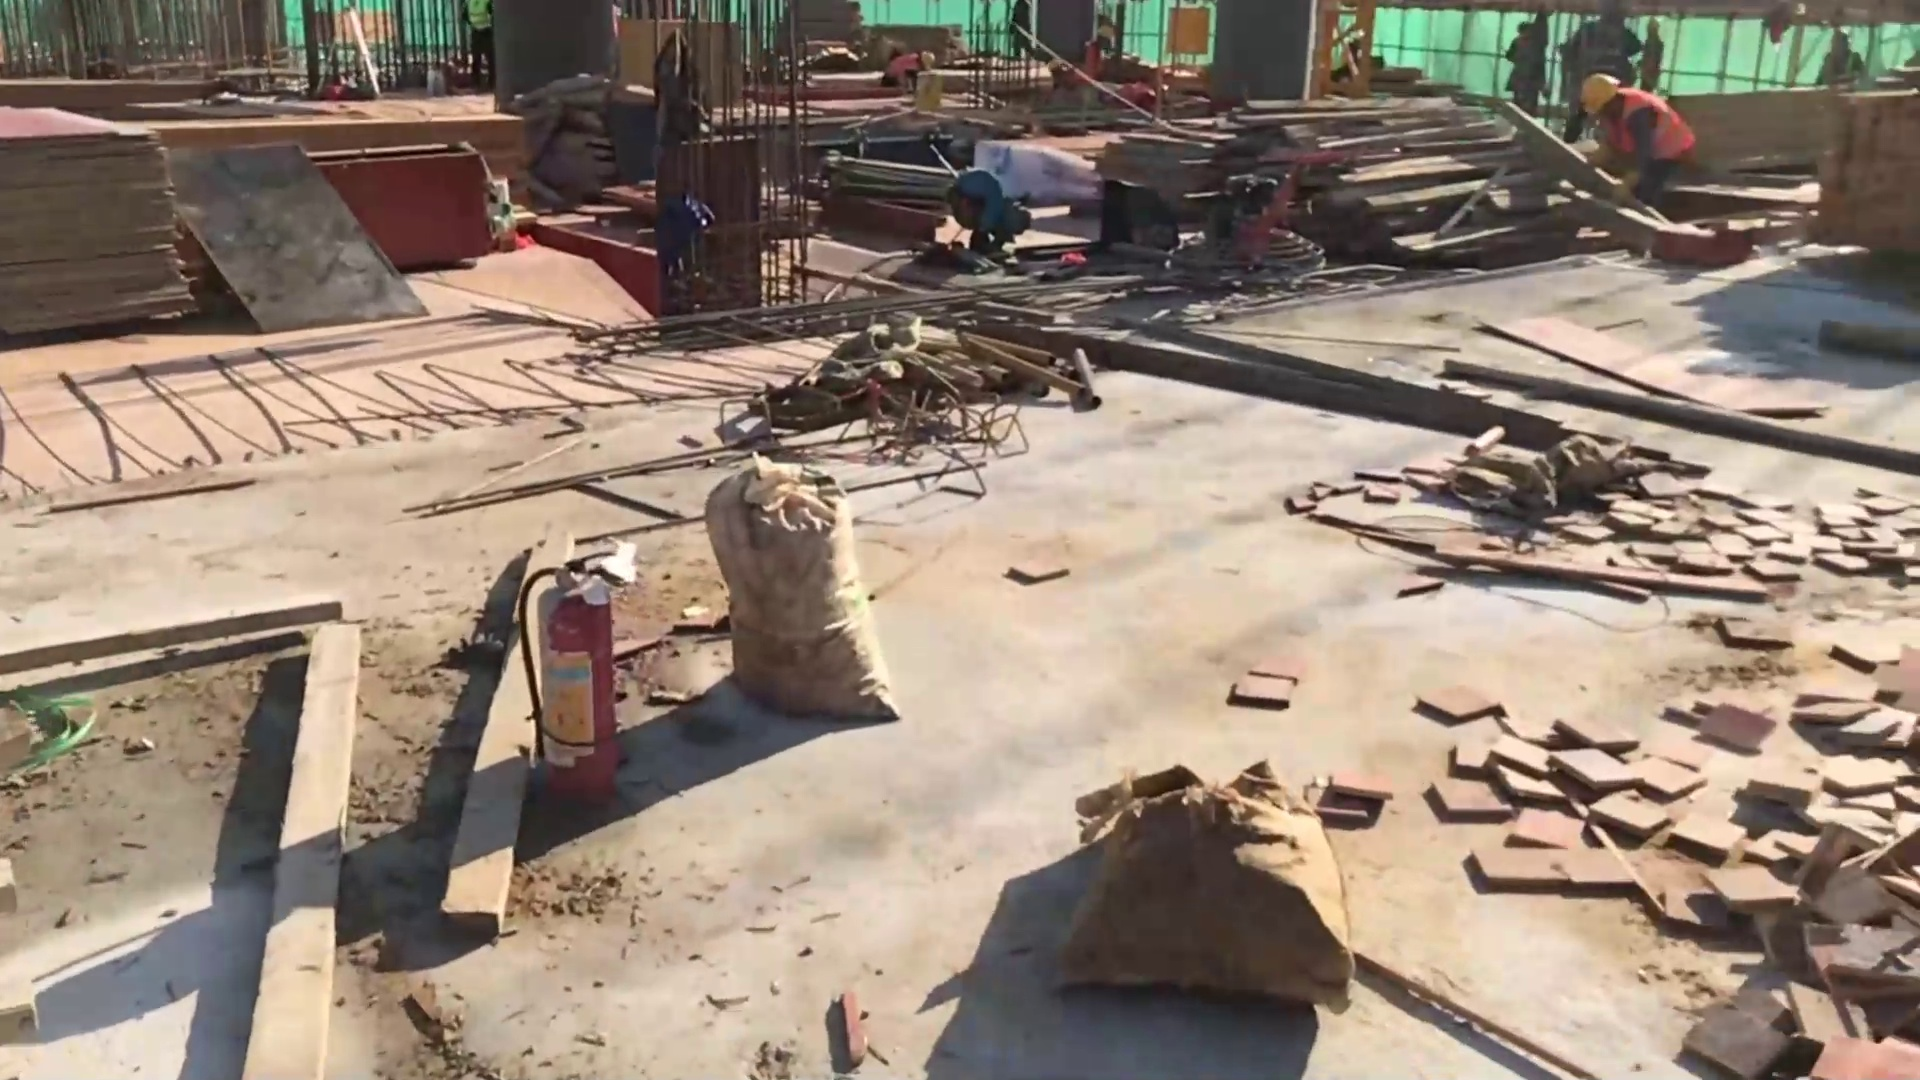board: (1, 119, 201, 334)
helmet: (1586, 70, 1627, 106)
person: (1574, 69, 1694, 212)
wood: (1156, 108, 1551, 265)
